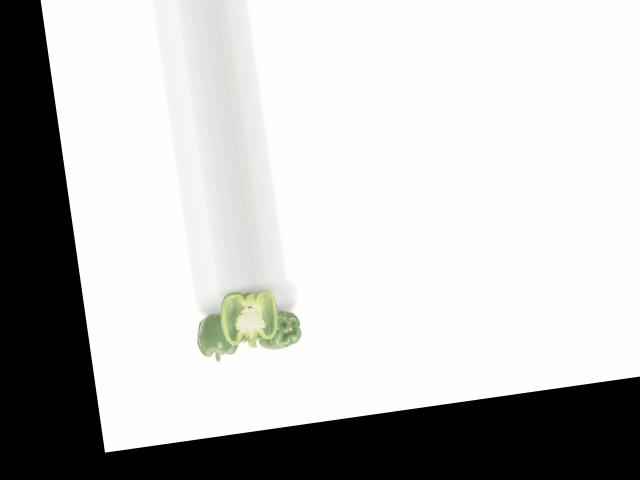bell_pepper: (250, 302, 307, 356)
